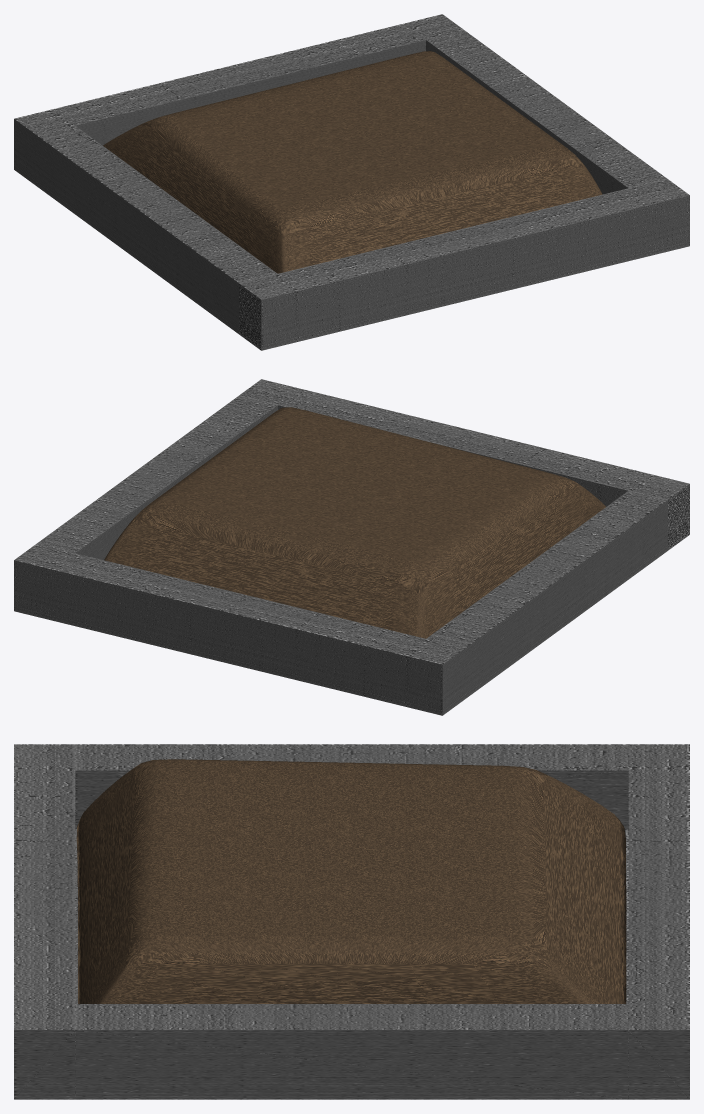
Rendered from planter.fbx.
The picture shows the model from 3 angles, top to bottom: view 1: azimuth 30°, elevation 25°; view 2: azimuth 150°, elevation 25°; view 3: azimuth 270°, elevation 25°; orthographic projection. The views are drawn at different scales.
Visible parts, largest first — view 1: pCube1, pCube2; view 2: pCube1, pCube2; view 3: pCube2, pCube1.
Part boxes in pixels (x1,y1,x2,y2): pCube1: (14,14,689,350); pCube2: (103,51,602,273); pCube1: (14,379,689,715); pCube2: (104,407,605,638); pCube2: (76,759,626,1003); pCube1: (14,744,689,1099).
Size of the model in its own units: 2.2 by 0.3846 by 2.2.
